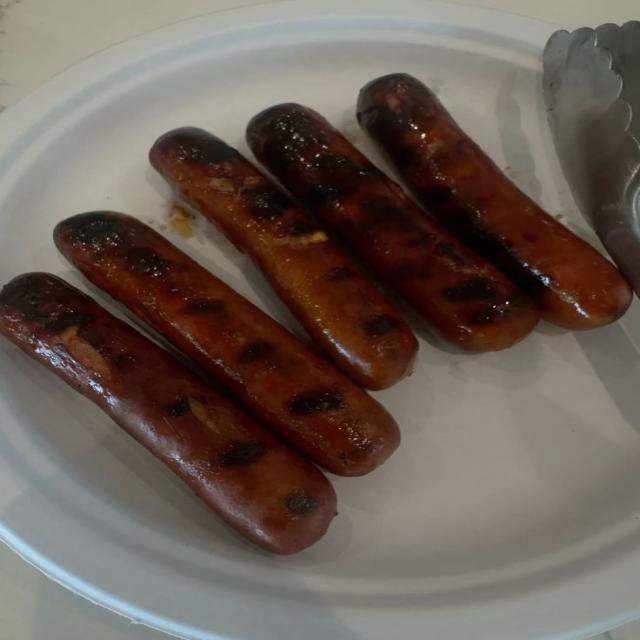sausage: (0, 273, 335, 553), (54, 213, 399, 475), (247, 104, 539, 350), (358, 74, 632, 329), (150, 128, 417, 389)
